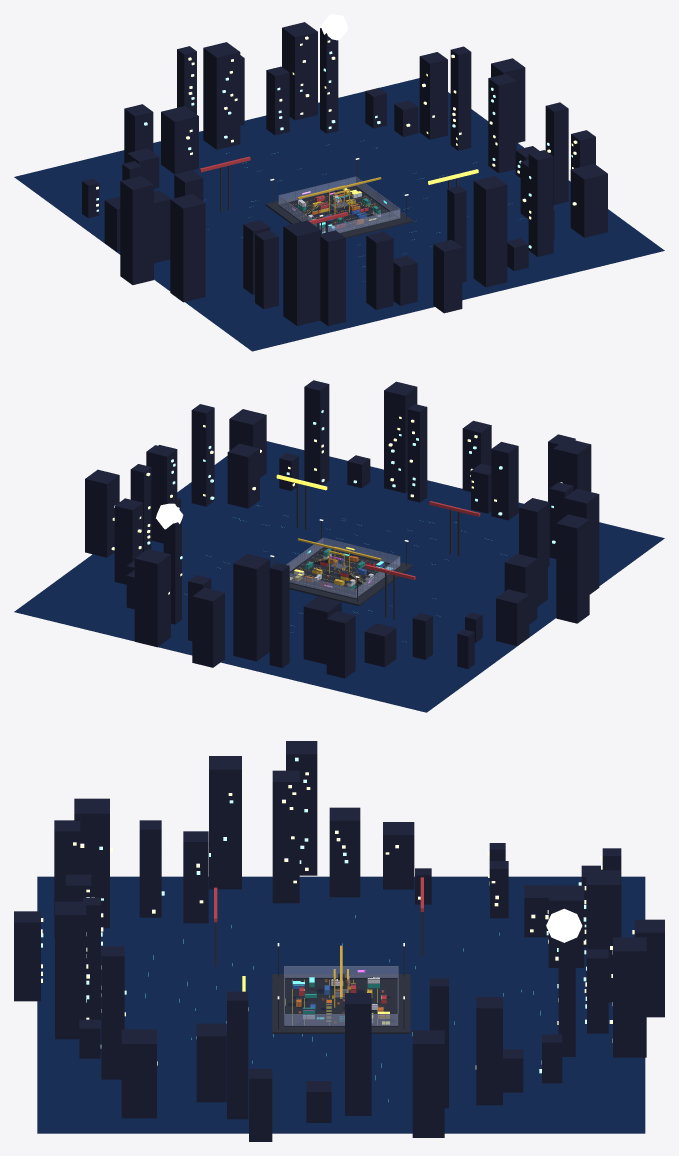
File: neon_visual.glb
3 renders of one model, top to bottom at view 1: azimuth 30°, elevation 25°; view 2: azimuth 150°, elevation 25°; view 3: azimuth 270°, elevation 25°, orthographic. The views are drawn at different scales.
Parts seen in each view (by area): view 1: DETAIL_batch, DETAIL_fence, VIS_floor_quay; view 2: DETAIL_batch, DETAIL_fence, VIS_floor_quay; view 3: DETAIL_batch, VIS_floor_quay, DETAIL_fence.
Part boxes in pixels (x1,y1,x2,y2): DETAIL_batch: [14, 14, 664, 351]; DETAIL_fence: [278, 177, 400, 233]; VIS_floor_quay: [281, 187, 397, 232]; DETAIL_batch: [14, 380, 664, 712]; DETAIL_fence: [287, 538, 400, 597]; VIS_floor_quay: [290, 548, 397, 597]; DETAIL_batch: [14, 741, 664, 1141]; VIS_floor_quay: [285, 979, 397, 1025]; DETAIL_fence: [284, 966, 397, 1025].
Size of the model in its own units: 326 by 80.2 by 321.
